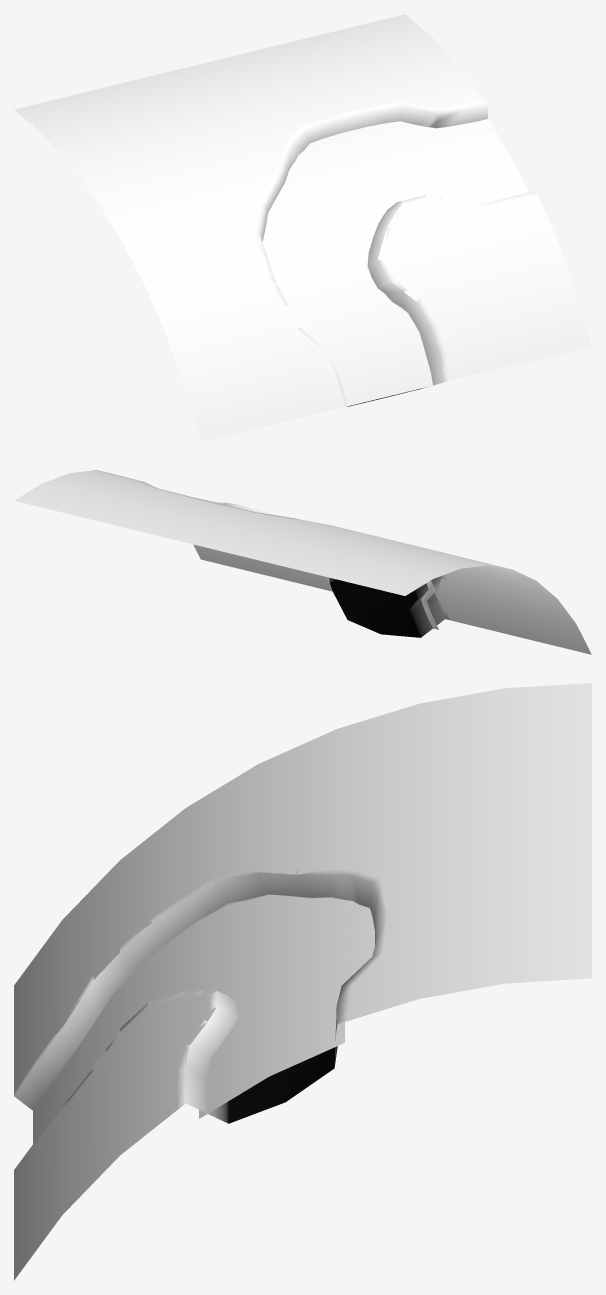
Rendered from grd_Rws_1.dae.
3 views of the same model, one above another, from view 1: azimuth 30°, elevation 25°; view 2: azimuth 150°, elevation 25°; view 3: azimuth 270°, elevation 25° (orthographic). The views are drawn at different scales.
Visible parts, largest first — view 1: grd_Rws_1; view 2: grd_Rws_1; view 3: grd_Rws_1.
Part boxes in pixels (left/top/right/bottom): grd_Rws_1: left=14, top=14, right=591, bottom=441; grd_Rws_1: left=14, top=470, right=591, bottom=654; grd_Rws_1: left=14, top=683, right=591, bottom=1280.
Size of the model in its own units: 512 by 264 by 423.
Materials: 4 (1 with a texture image).
